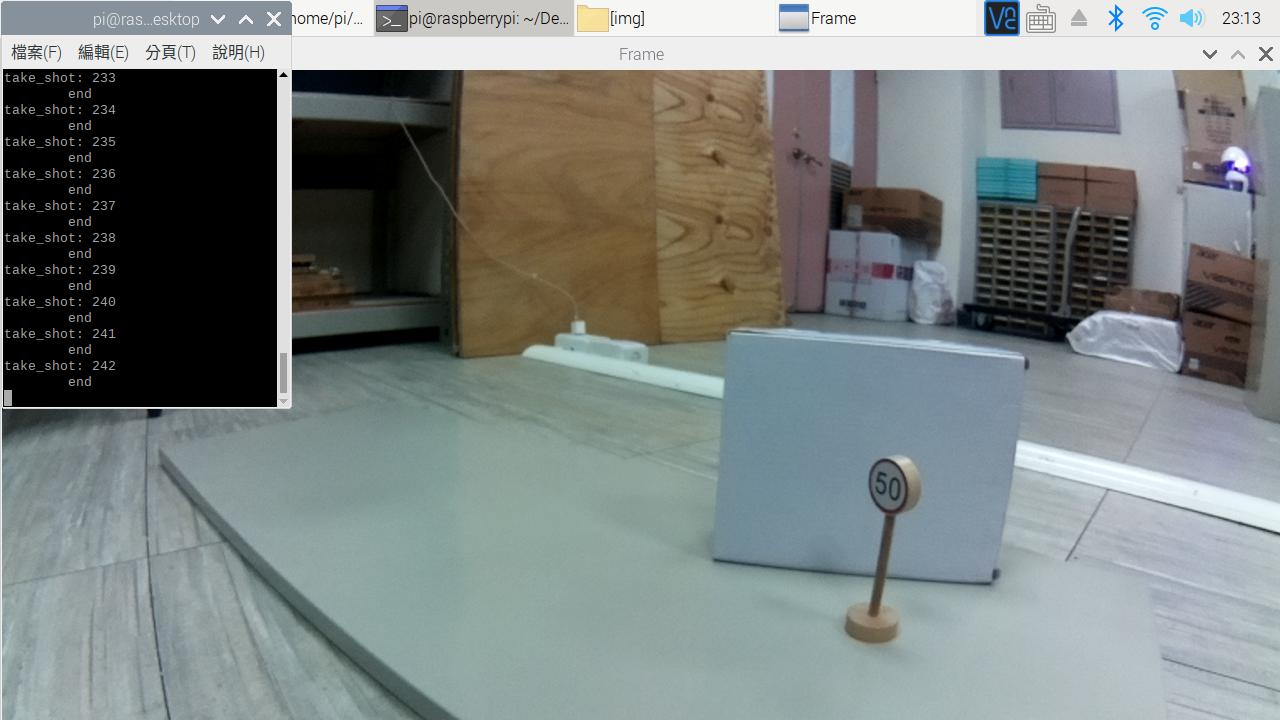Speed50: (841, 441, 946, 546)
